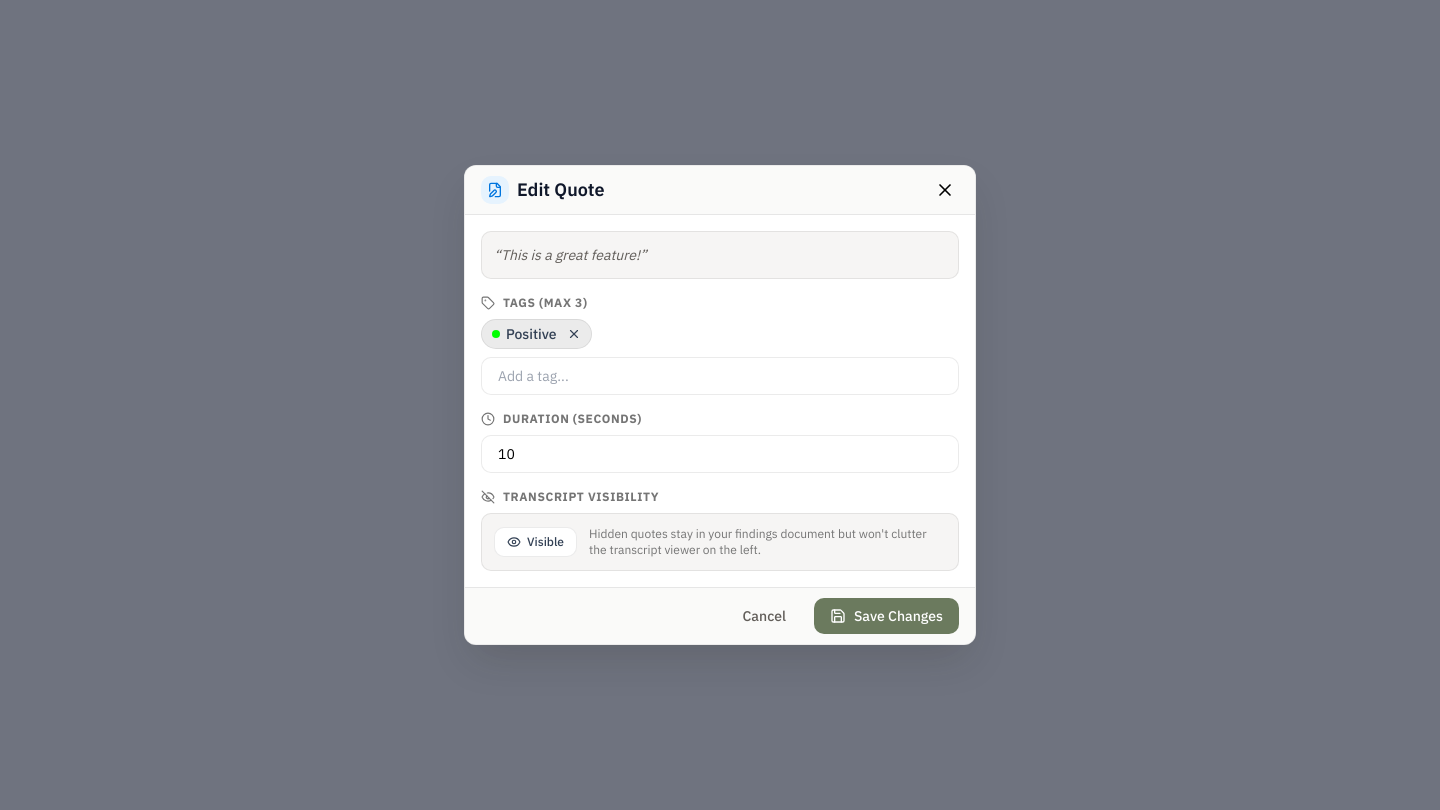
QuoteEditModal › can add and remove tags
Expected: the text "Positive" is shown, [481,319,592,349]
Add another tag
Type "Usability" into the field with placeholder "Add a tag...". click: coordinates (720, 376)
box: [481,357,959,395]
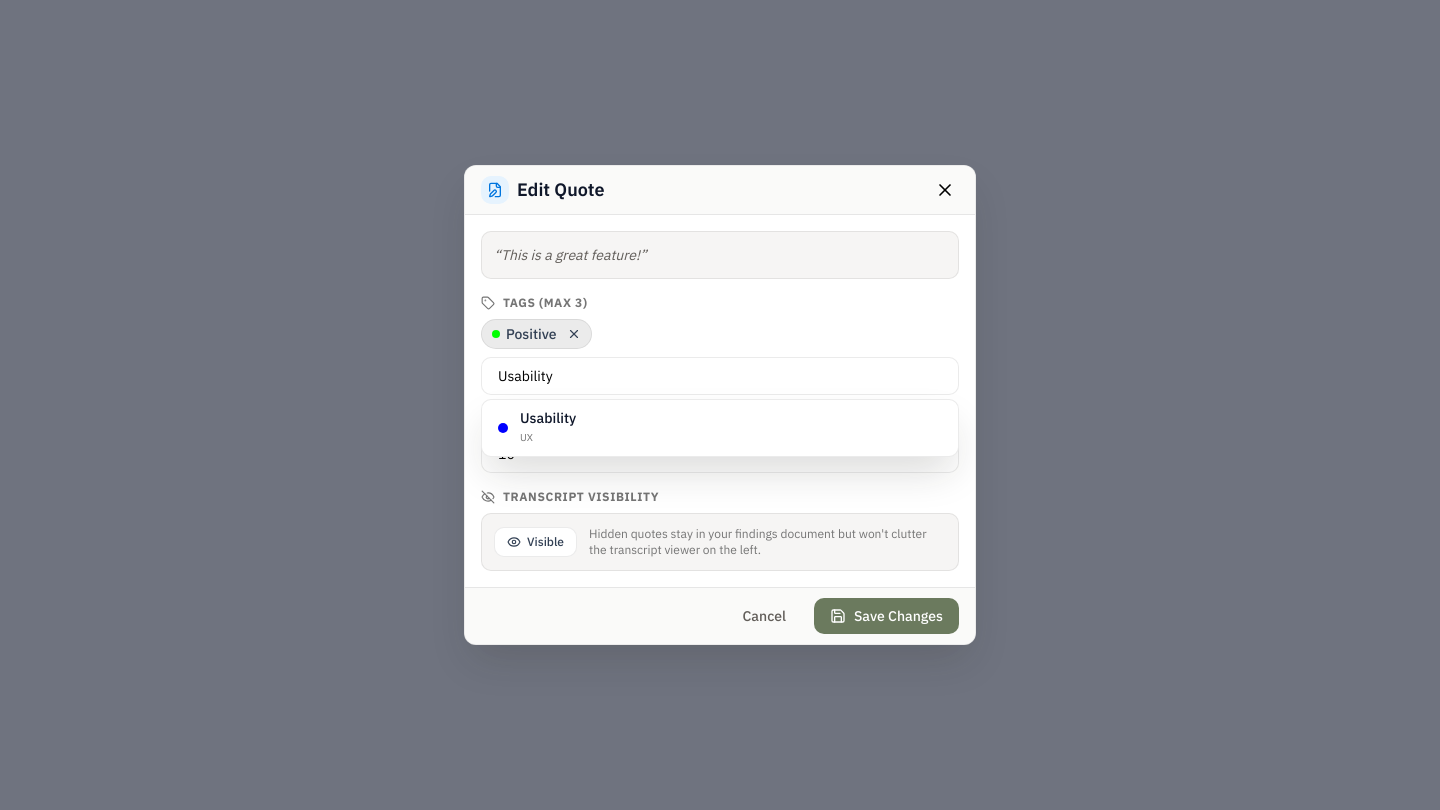
Find suggestion and click
Click the text "Usability". click: coordinates (548, 418)
box: [520,408,576,428]
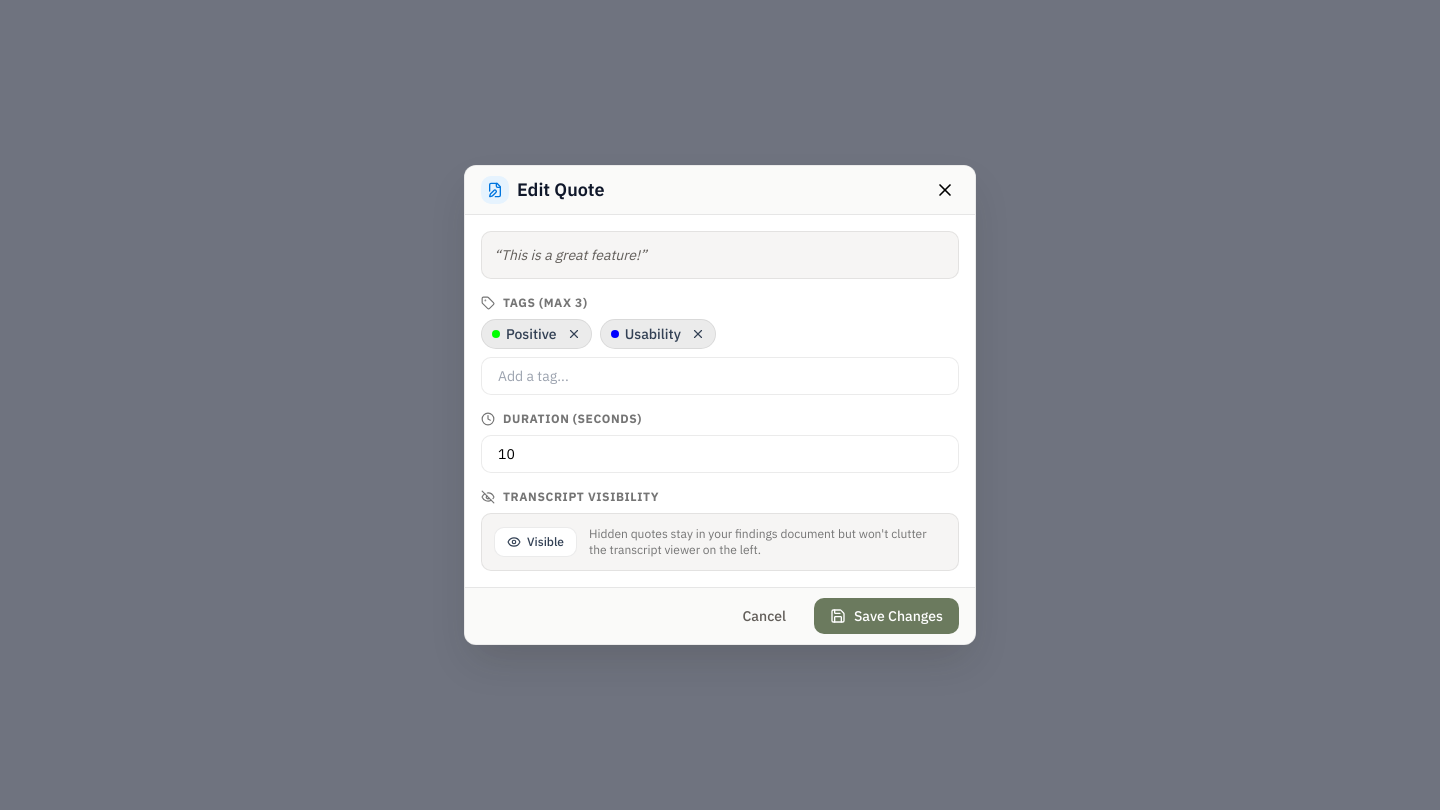
Expected: the text "Usability" is shown, [600,319,716,349]
Click the button without text next to "Positive". click: coordinates (574, 334)
box: [567,327,581,341]
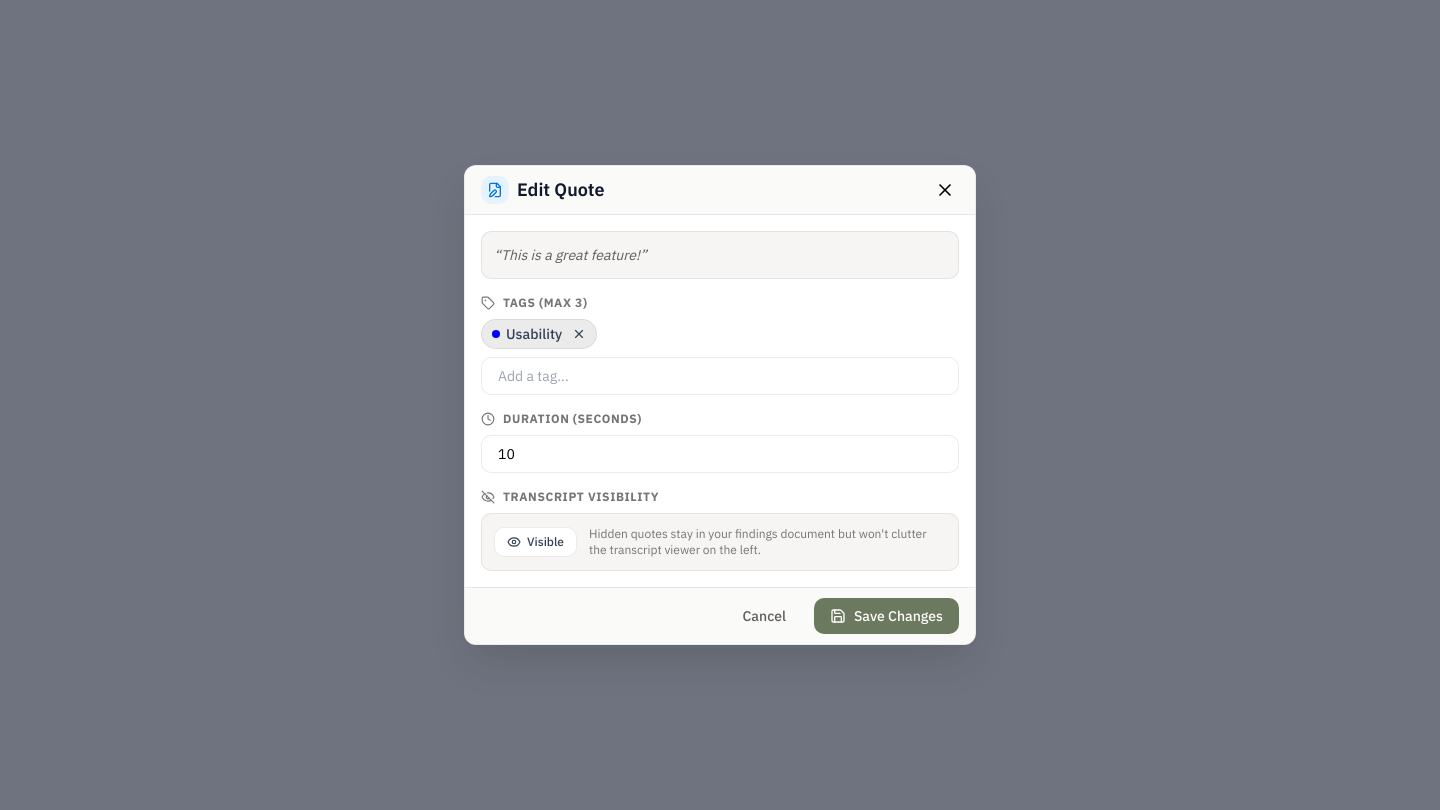
Expected: the text "Positive" is gone
